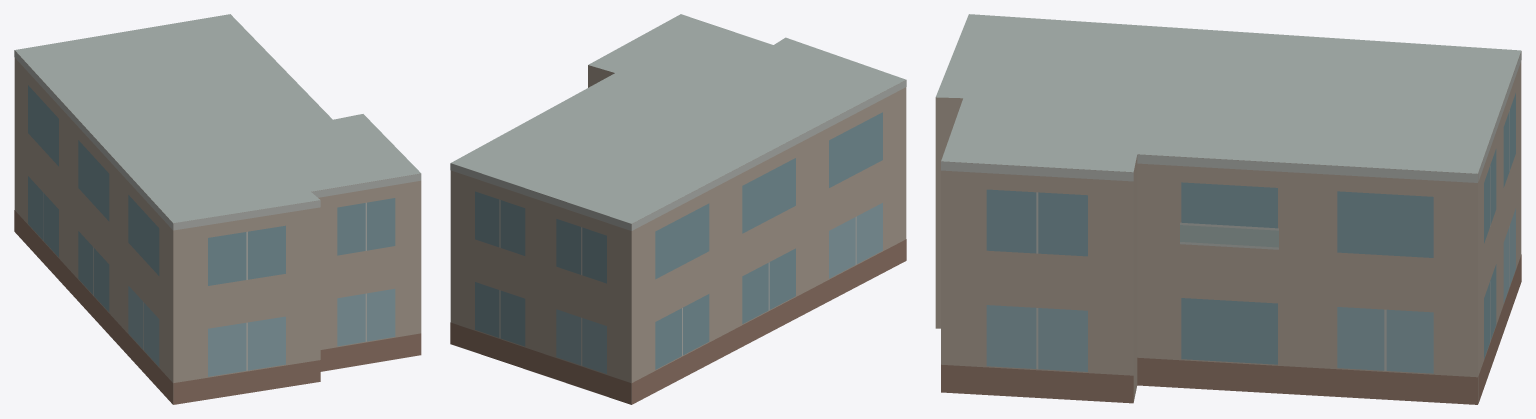
File: survey-upis-32604390.glb
3 views of the same model, side by side, from view 1: azimuth 30°, elevation 25°; view 2: azimuth 150°, elevation 25°; view 3: azimuth 270°, elevation 25° (orthographic). The views are drawn at different scales.
Parts seen in each view (by area): view 1: survey-upis-32604390.tmp; view 2: survey-upis-32604390.tmp; view 3: survey-upis-32604390.tmp.
Part boxes in pixels (x1,y1,x2,y2): survey-upis-32604390.tmp: [14, 14, 421, 404]; survey-upis-32604390.tmp: [450, 14, 906, 404]; survey-upis-32604390.tmp: [935, 14, 1521, 404].
Bounding box in the file's own units: 9.06 × 6.1 × 14.03.
